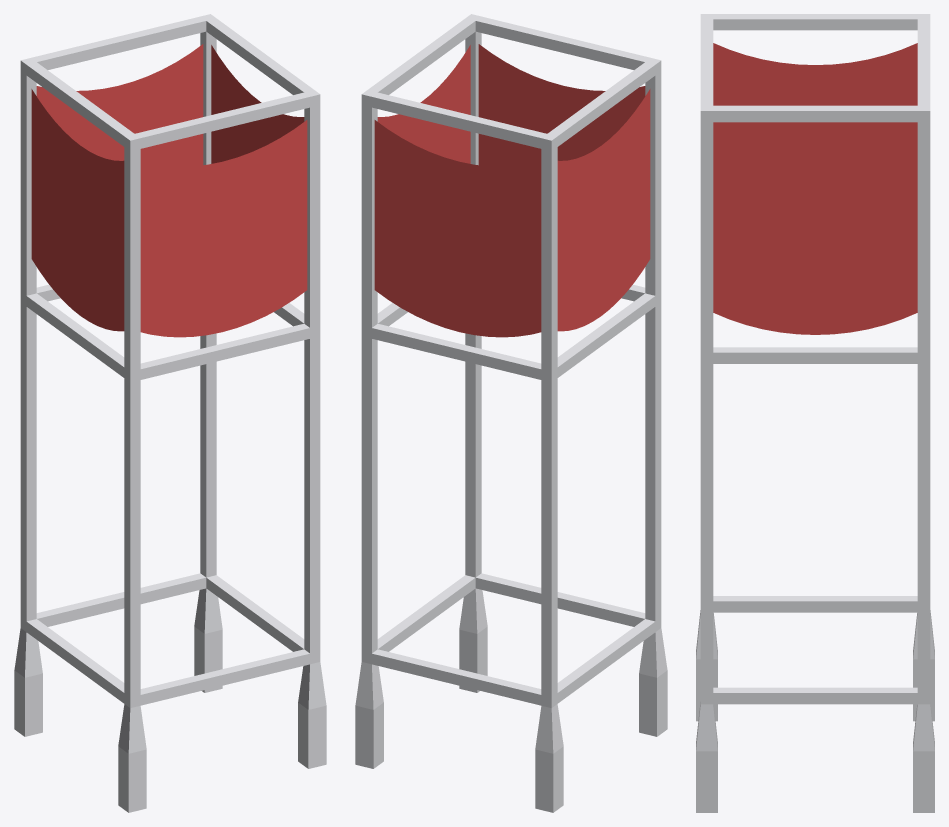
The model's file is bannerTowerRed.glb.
3 views of the same model, side by side, from view 1: azimuth 30°, elevation 25°; view 2: azimuth 150°, elevation 25°; view 3: azimuth 270°, elevation 25° (orthographic). The views are drawn at different scales.
Visible parts, largest first — view 1: bannerTowerRed; view 2: bannerTowerRed; view 3: bannerTowerRed.
Boxes of the visible parts, x1,y1,x2,y2 form: bannerTowerRed: (14, 14, 326, 812); bannerTowerRed: (355, 14, 667, 812); bannerTowerRed: (696, 14, 934, 812).
Bounding box in the file's own units: 0.3852 × 1.25 × 0.3852.
